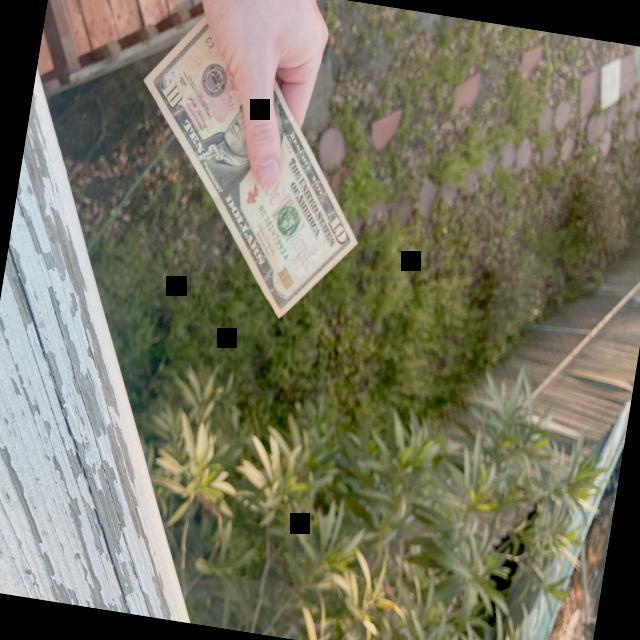ten: (143, 0, 356, 319)
